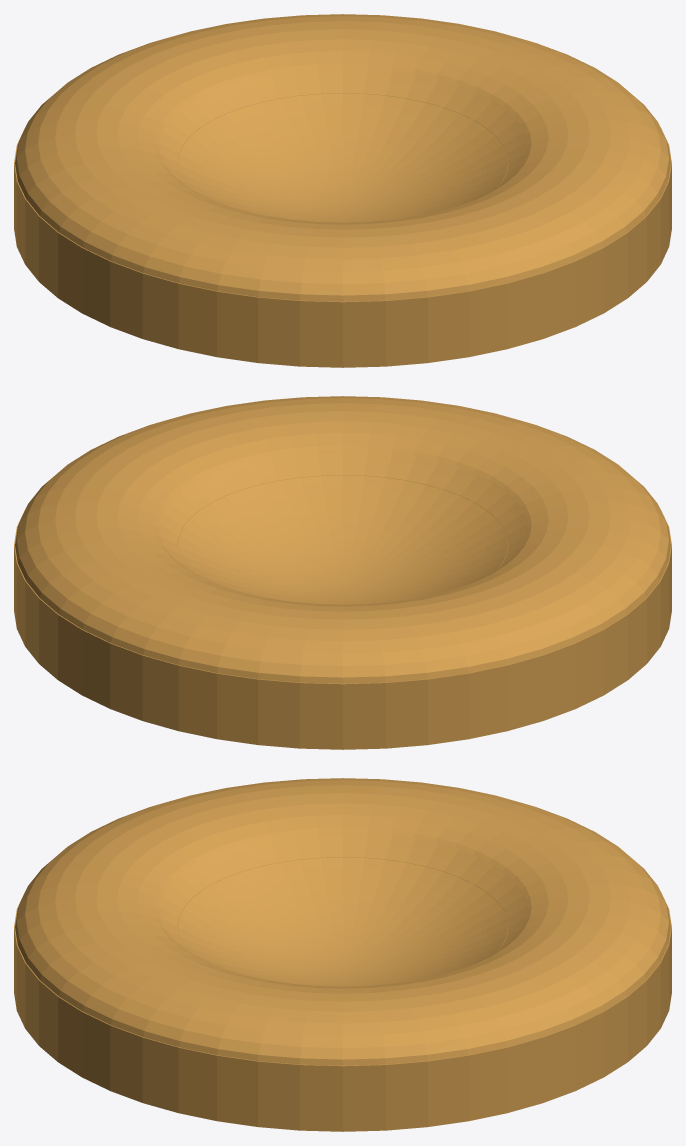
The model's file is cratera2.glb.
3 renders of one model, top to bottom at view 1: azimuth 30°, elevation 25°; view 2: azimuth 150°, elevation 25°; view 3: azimuth 270°, elevation 25°, orthographic.
Parts seen in each view (by area): view 1: Mesh_Mesh_head_geo.001_lambert2SG.001; view 2: Mesh_Mesh_head_geo.001_lambert2SG.001; view 3: Mesh_Mesh_head_geo.001_lambert2SG.001.
Boxes of the visible parts, left/top/right/bottom form: Mesh_Mesh_head_geo.001_lambert2SG.001: left=14, top=14, right=671, bottom=367; Mesh_Mesh_head_geo.001_lambert2SG.001: left=14, top=396, right=671, bottom=749; Mesh_Mesh_head_geo.001_lambert2SG.001: left=14, top=778, right=671, bottom=1131.
Size of the model in its own units: 1 by 0.16 by 1.
